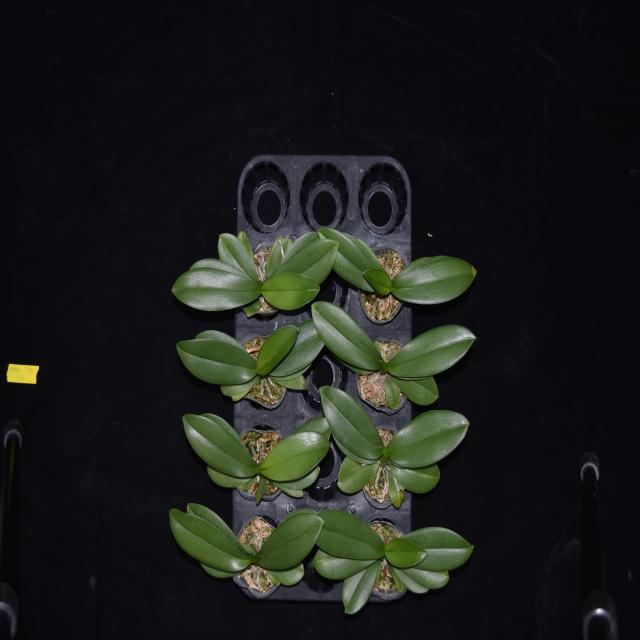leaf: (307, 298, 381, 382), (170, 508, 250, 577), (180, 411, 260, 478), (385, 408, 472, 467), (386, 324, 477, 379), (391, 252, 479, 308), (320, 386, 384, 461), (252, 512, 327, 570), (316, 223, 378, 290), (174, 337, 256, 387), (171, 267, 262, 311), (308, 511, 386, 558), (262, 431, 330, 484), (268, 320, 326, 382), (184, 502, 248, 554), (276, 239, 342, 282), (409, 526, 475, 569), (256, 324, 299, 381), (340, 553, 380, 614), (311, 547, 386, 579), (213, 231, 260, 282), (263, 272, 320, 311), (337, 451, 382, 495), (384, 460, 443, 492), (388, 372, 440, 406), (188, 258, 252, 283), (384, 535, 428, 570), (256, 560, 308, 589), (263, 465, 321, 490), (219, 370, 261, 402), (399, 564, 451, 589), (205, 464, 255, 489), (264, 232, 292, 276), (391, 564, 428, 596), (284, 418, 333, 442), (363, 264, 390, 298), (200, 562, 243, 580), (381, 378, 405, 410), (384, 476, 406, 508), (269, 373, 309, 389), (239, 229, 255, 260), (255, 475, 267, 503), (248, 549, 260, 563), (376, 358, 388, 371)
